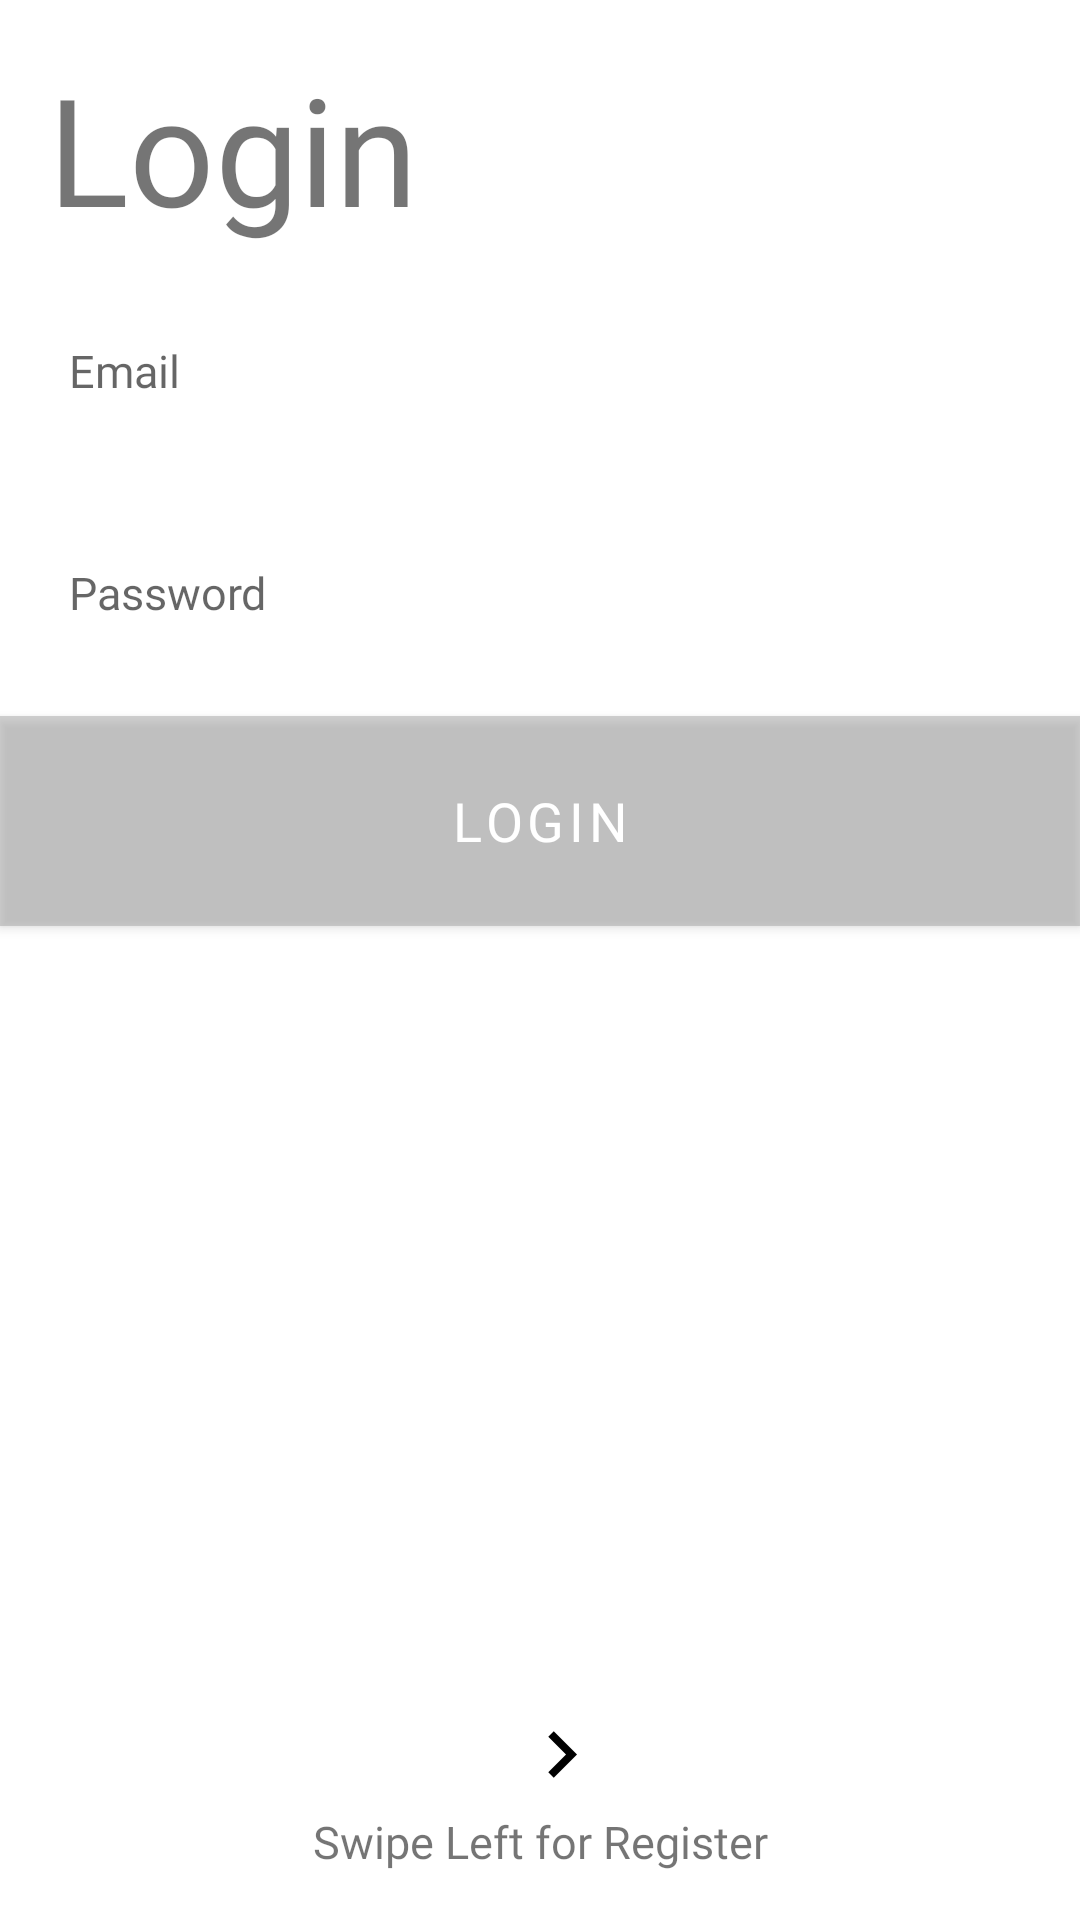

Where to tap for icons on this 1080 x 1920 app screen, as point (x, y):
arrow right: point (562, 1754)
